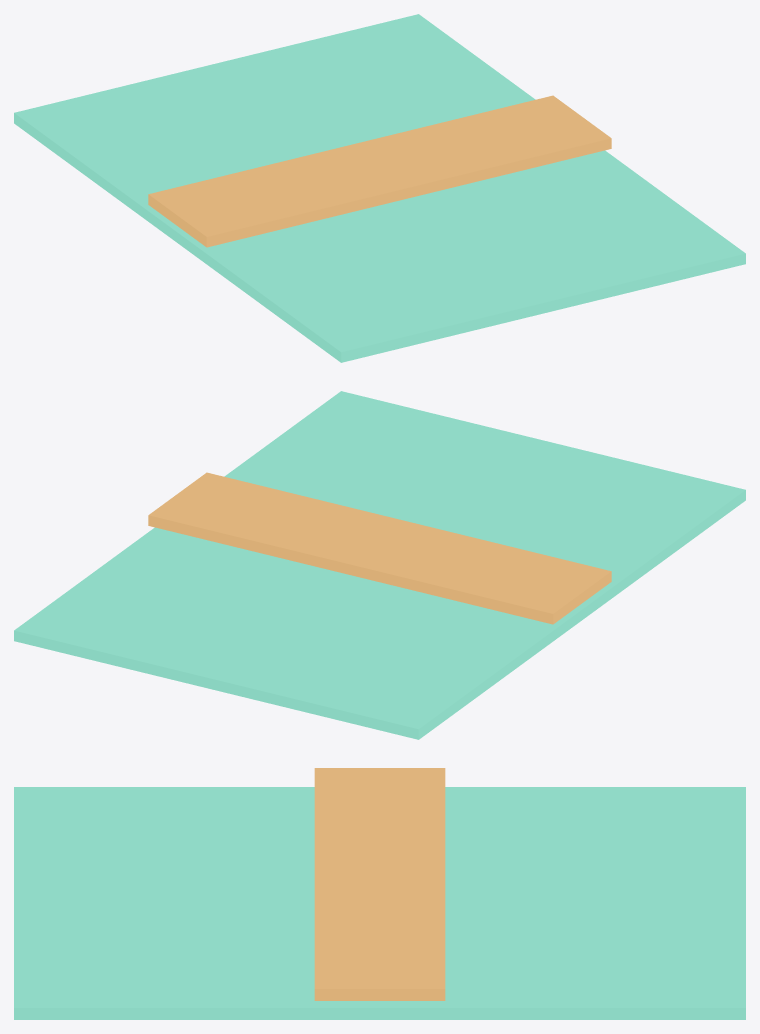
3 views of the same model, one above another, from view 1: azimuth 30°, elevation 25°; view 2: azimuth 150°, elevation 25°; view 3: azimuth 270°, elevation 25° (orthographic). The views are drawn at different scales.
Visible parts, largest first — view 1: whole_page, slip; view 2: whole_page, slip; view 3: whole_page, slip.
Part boxes in pixels (x1,y1,x2,y2): whole_page: (14, 14, 745, 362); slip: (148, 95, 611, 247); whole_page: (14, 391, 745, 739); slip: (148, 472, 611, 624); whole_page: (14, 787, 745, 1019); slip: (314, 768, 445, 1000).
Size of the model in its own units: 1 by 0.065 by 1.4.
